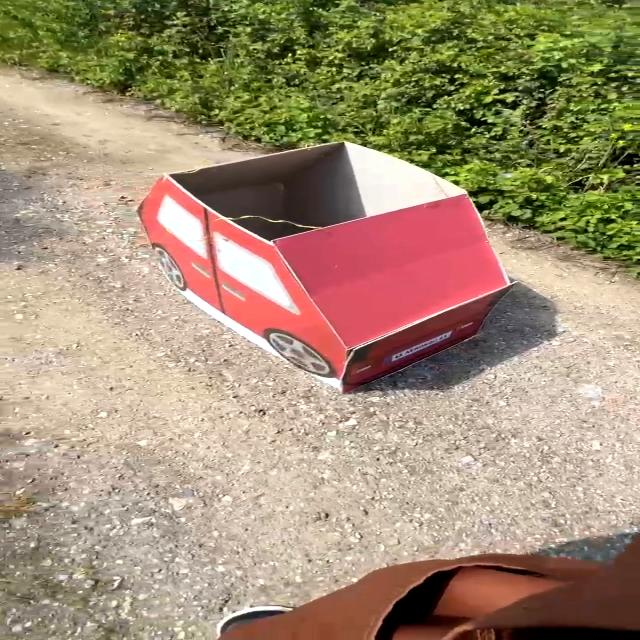red_car: (51, 125, 585, 406)
